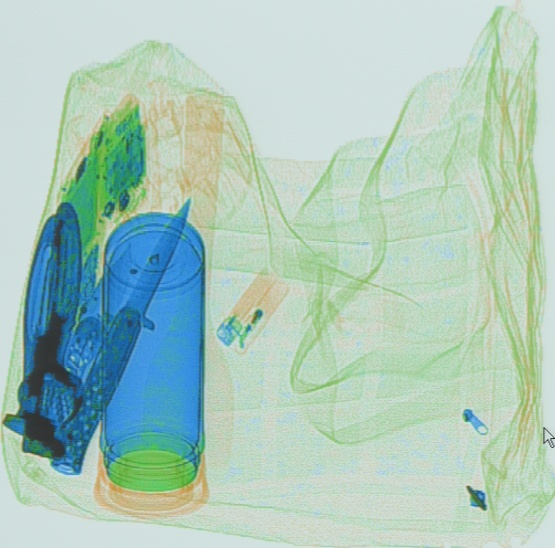knife: (51, 194, 194, 476), (52, 241, 132, 405)
lighter: (214, 260, 293, 357)
